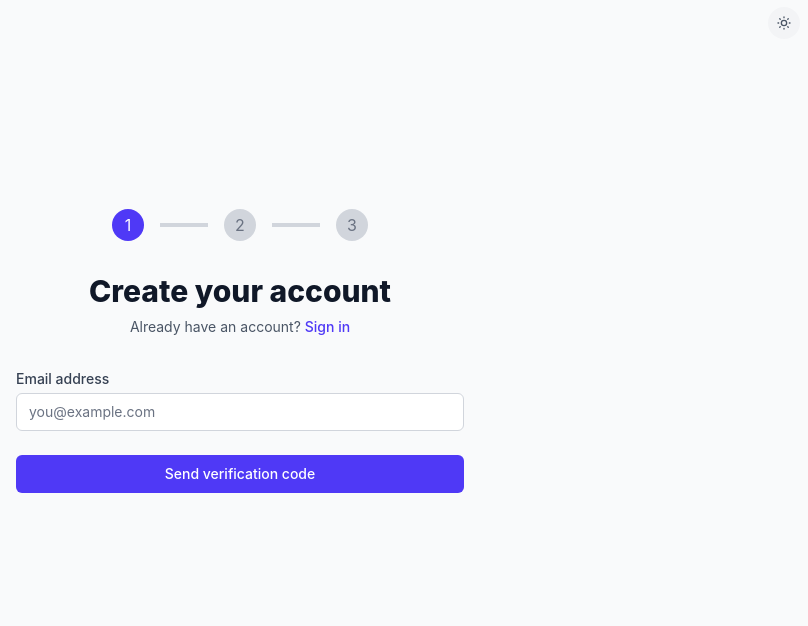
Test: RegisterPage › Step 1: Email › should send verification code on submit
In the field labelled "Email address": (240, 412) [16,393,464,431], type "test@example.com"
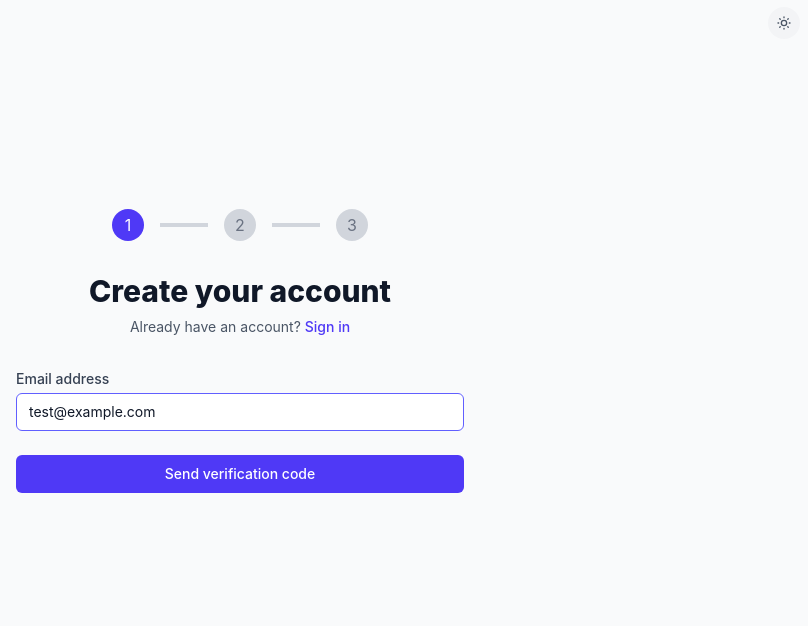
Click the button "Send verification code": (240, 474) [16,455,464,493]
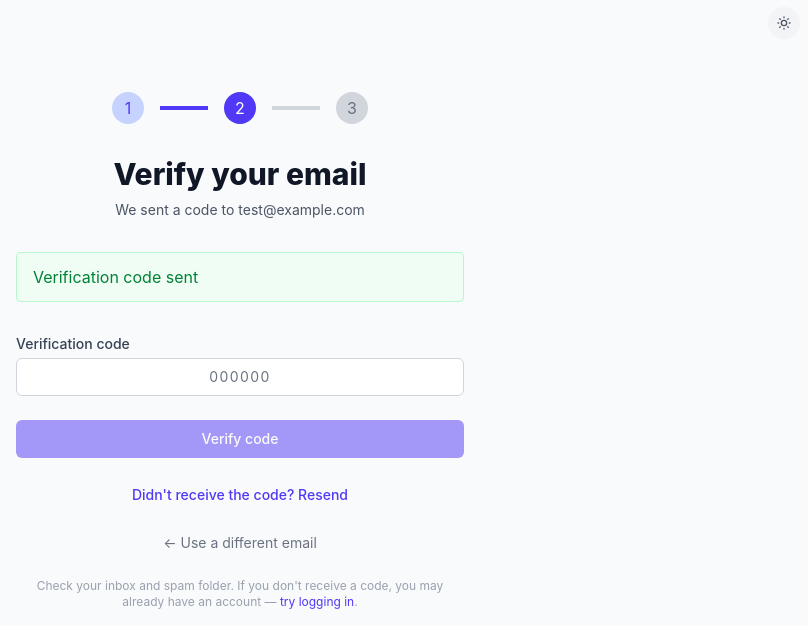
expect the text "Verification code sent" is shown: met, box [16,252,464,302]
expect the heading "Verify your email" is shown: met, box [114,156,366,192]
